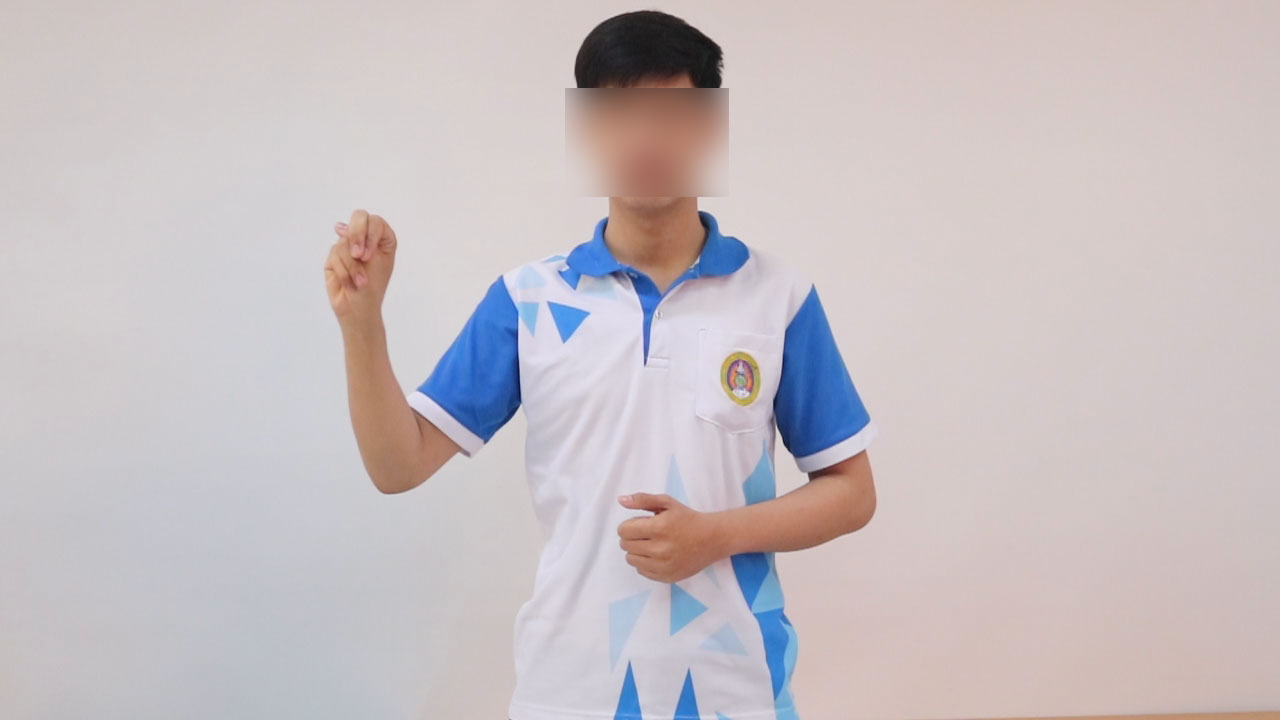nor: (321, 206, 401, 326)
